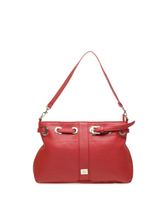bag: (21, 48, 141, 187)
